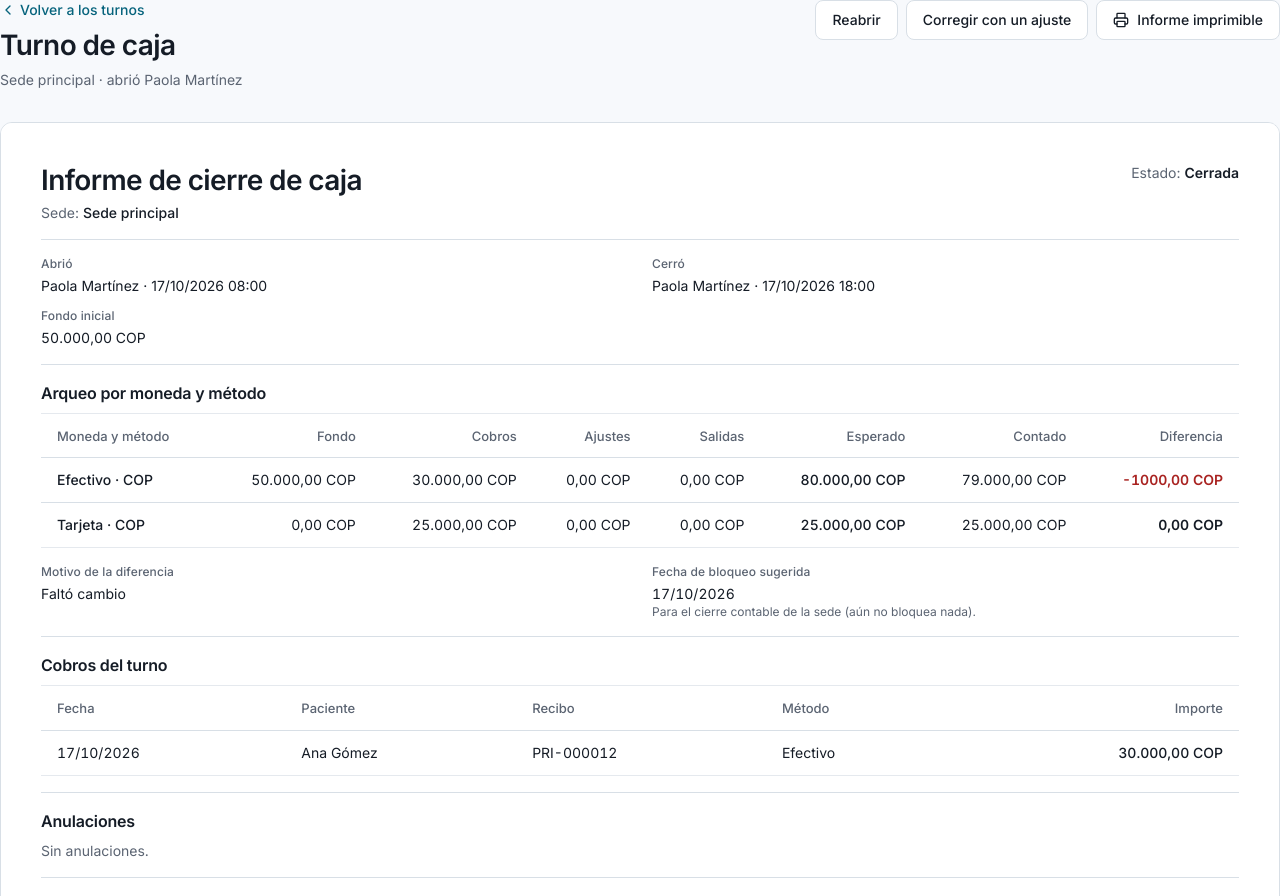
Test case: CashSessionDetailView: moneda de la sede (GLOBAL-G1) › JPY location shows JPY without decimals
Check: the heading "Turno de caja" is shown, box x1=0 y1=28 x2=175 y2=62
Click the button "Corregir con un ajuste": point(997, 20) x1=906 y1=0 x2=1088 y2=40
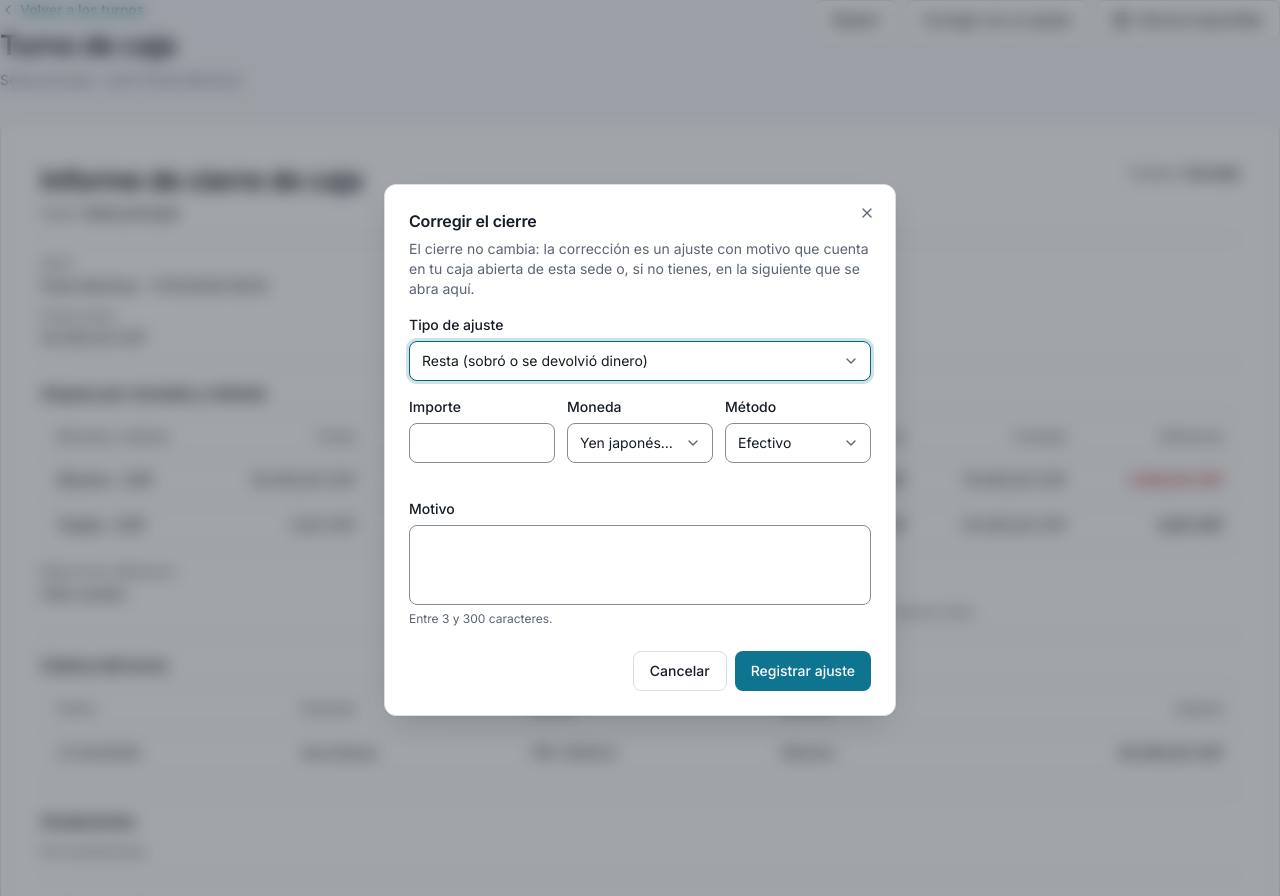
Check: the dropdown labelled "Moneda" shows "Yen japonés (¥)", box x1=567 y1=423 x2=713 y2=463
